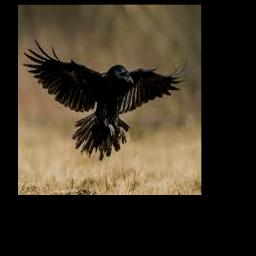Crow: (23, 39, 189, 159)
